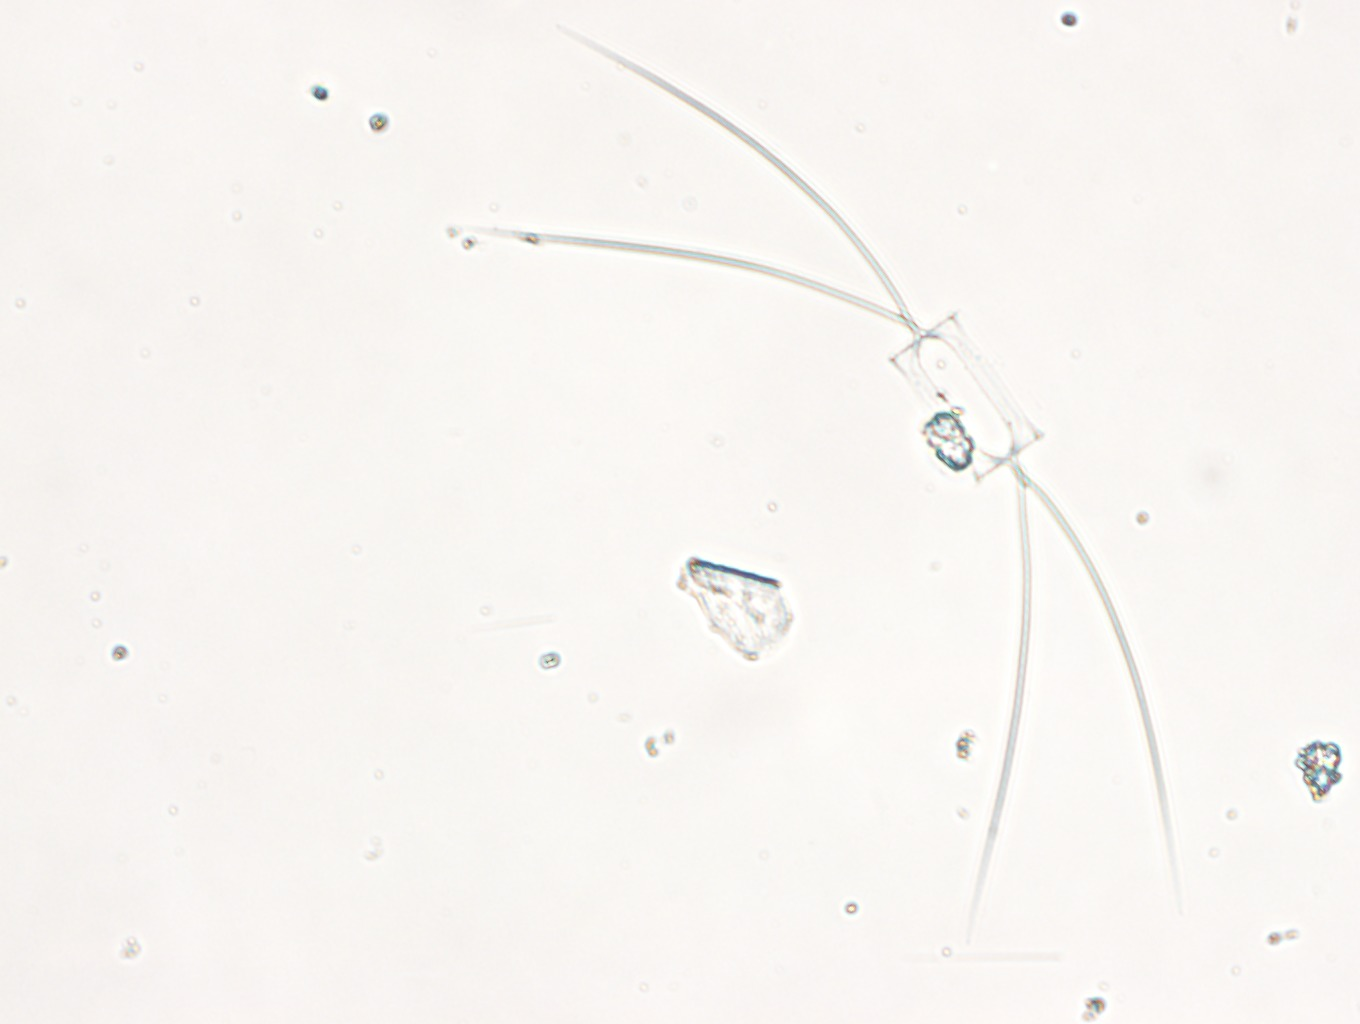chaetoceros: (472, 20, 1177, 910)
